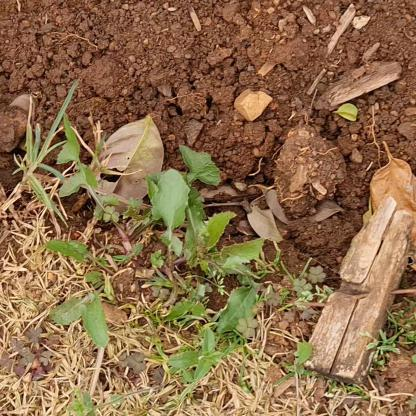Weeds: (48, 114, 268, 415), (169, 329, 224, 383)
